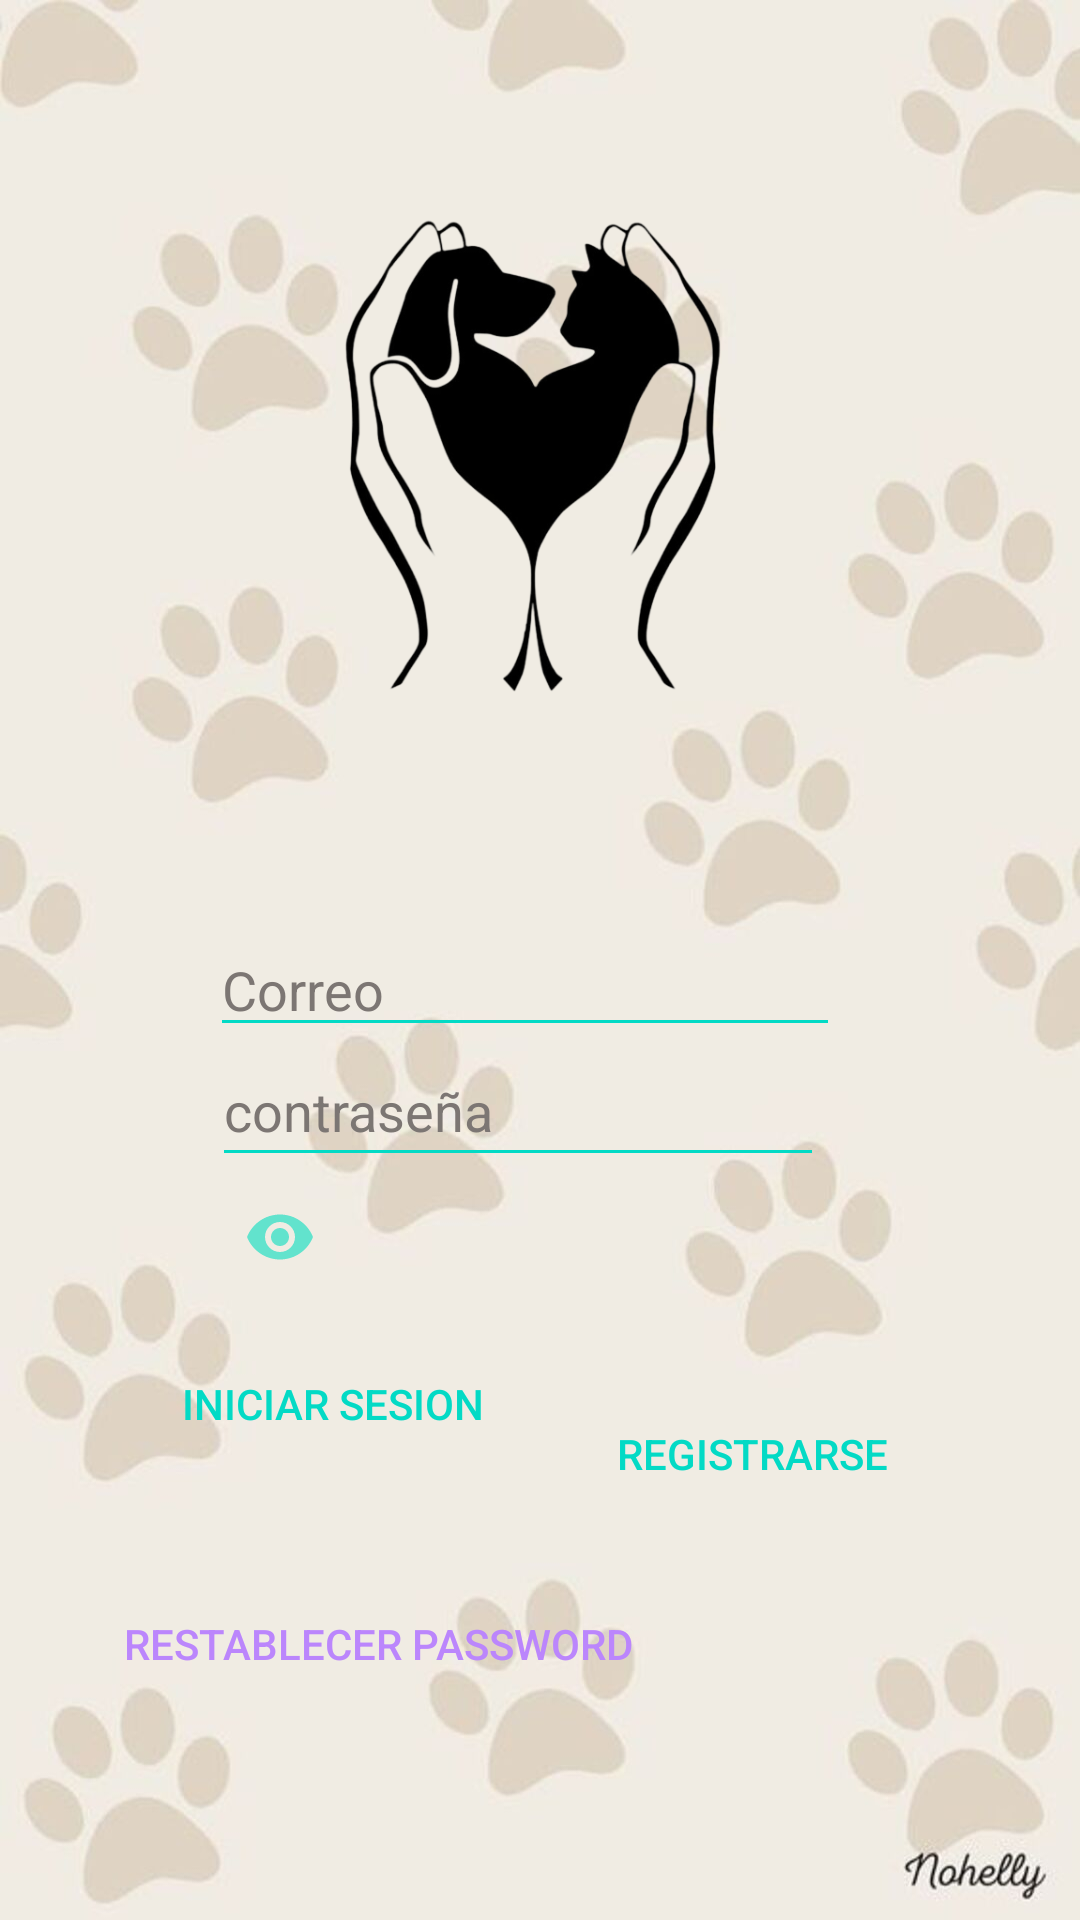

Screen size 1080*1920. Icon name, then its box in pixels as (x1, y1, x2, y2):
ver password: (247, 1214, 313, 1260)
